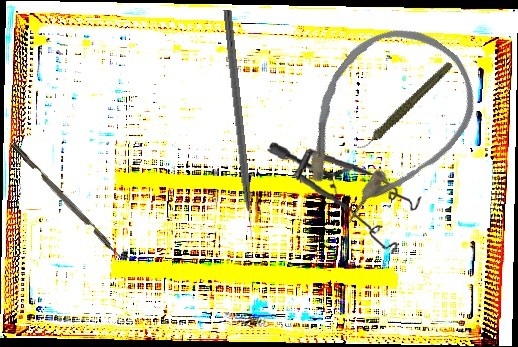Cannula: (268, 3, 498, 245)
Chopper: (10, 136, 133, 267)
Handpiece: (342, 60, 467, 152)
Hook Surgical: (220, 9, 256, 242)
Speculum: (262, 141, 425, 256)
